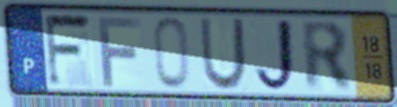0: (150, 13, 195, 93)
F: (42, 11, 95, 90), (95, 14, 144, 90)
J: (252, 15, 301, 96)
R: (298, 18, 356, 94)
U: (197, 16, 249, 93)
